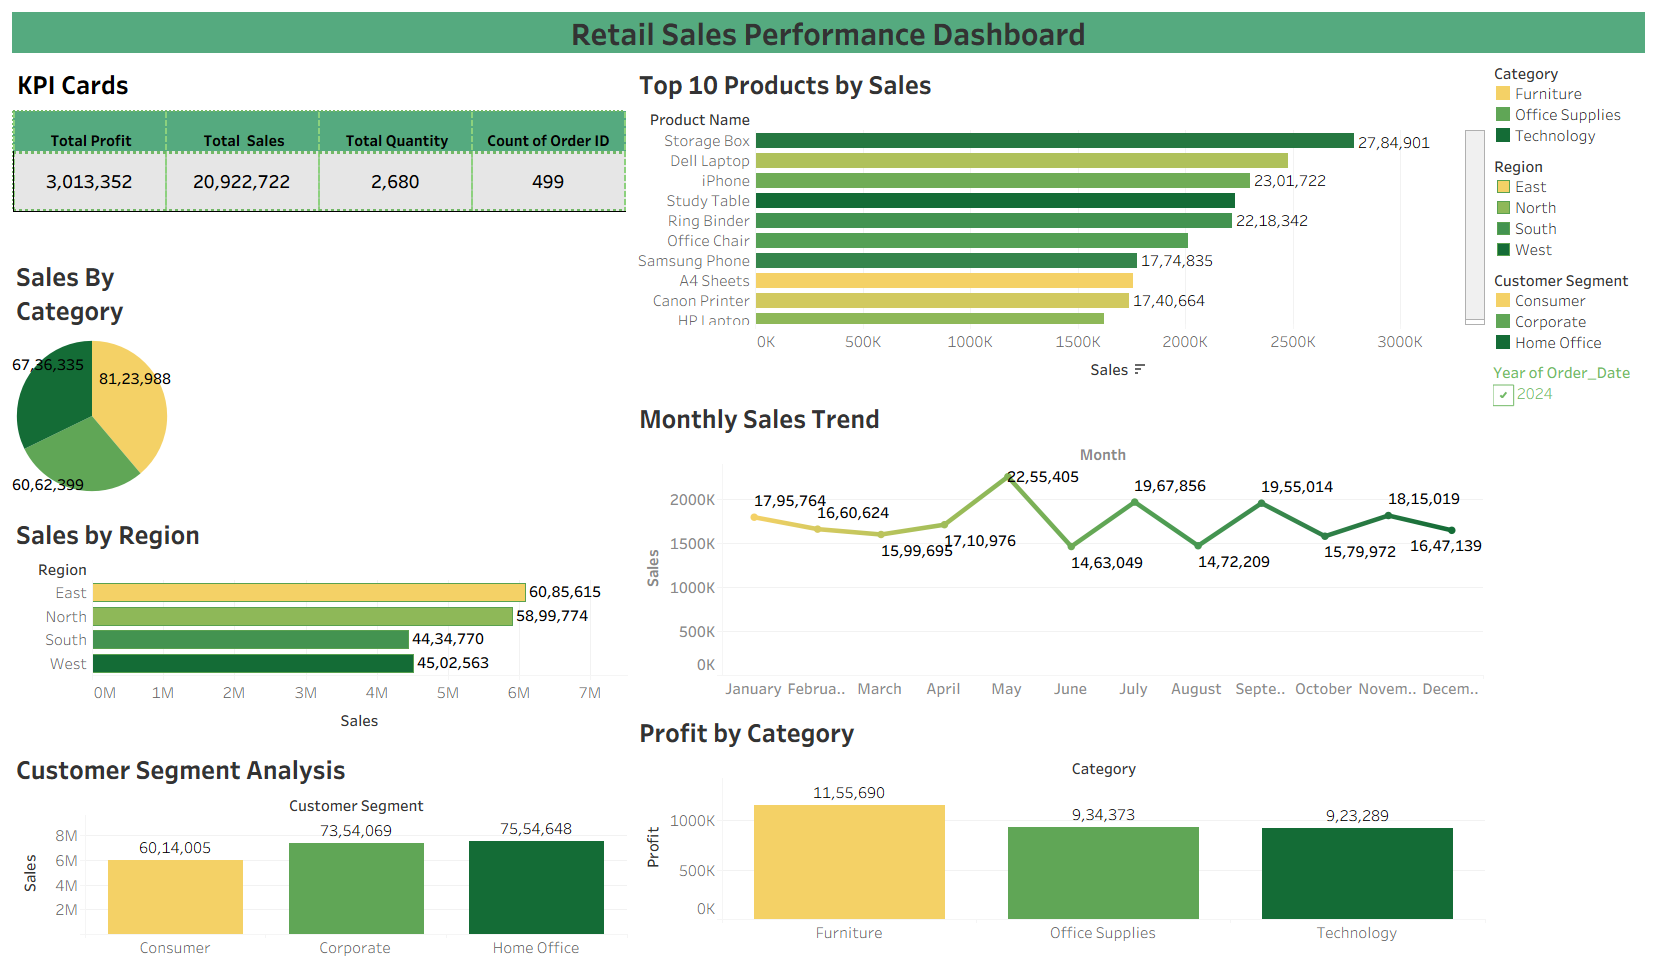

This screenshot's page, from the dashboard's own definition file:
{"tool":"tableau","page":{"name":"Retail Sales Performance Dashboard","canvas":[1000,1000],"units":"permille","ordinal":0},"visuals":[{"type":"title","box":[4.8,8.2,990.3,50.5]},{"type":"worksheet","title":"KPI Cards","mark":"Automatic","box":[4.8,58.7,376,197.7]},{"type":"worksheet","title":"Top 10 Products by Sales","mark":"Automatic","rows":["Product_Name"],"cols":["vtsum"],"box":[380.8,58.7,517.8,343.8]},{"type":"legend","title":"Profit by Category","param":"[federated.1wj47rj0s3u4un1fbs8by0bbzksn].[none:Category:nk]","box":[898.6,58.7,96.6,95.8]},{"type":"legend","title":"Sales by Region","param":"[federated.1wj47rj0s3u4un1fbs8by0bbzksn].[none:Region:nk]","box":[898.6,154.5,96.6,117.4]},{"type":"worksheet","title":"Sales by Category","mark":"Pie","box":[4.8,256.4,376,265.7]},{"type":"legend","title":"Customer Segment Analysis","param":"[federated.1wj47rj0s3u4un1fbs8by0bbzksn].[none:Customer_Segment:nk]","box":[898.6,271.9,96.6,95.8]},{"type":"filter","title":"Monthly Sales Trend","param":"[federated.1wj47rj0s3u4un1fbs8by0bbzksn].[yr:Order_Date:ok]","box":[898.6,367.7,96.6,84.5]},{"type":"worksheet","title":"Monthly Sales Trend","mark":"Line","rows":["vtsum"],"cols":["Calculation_1934658507542532"],"box":[380.8,402.5,517.8,323.4]},{"type":"worksheet","title":"Sales by Region","mark":"Bar","rows":["Region"],"cols":["vtsum"],"box":[4.8,522.1,376,242]},{"type":"worksheet","title":"Profit by Category","mark":"Automatic","rows":["Profit"],"cols":["Category"],"box":[380.8,725.9,517.8,265.9]},{"type":"worksheet","title":"Customer Segment Analysis","mark":"Automatic","rows":["vtsum"],"cols":["Customer_Segment"],"box":[4.8,764.2,376,227.6]}]}

Visuals, with their boxes on the dashboard's canvas, which has no fixed pixel size, in thousandths of its width and height (x1, y1, x2, y2). These are canvas units, not pixel positions in the 1657x971 screenshot, which may show the page scaled, cropped or inside an application window:
title: x1=5, y1=8, x2=995, y2=59
"KPI Cards" worksheet: x1=5, y1=59, x2=381, y2=256
"Top 10 Products by Sales" worksheet: x1=381, y1=59, x2=899, y2=402
"Profit by Category" legend: x1=899, y1=59, x2=995, y2=154
"Sales by Region" legend: x1=899, y1=154, x2=995, y2=272
"Sales by Category" worksheet (Pie marks): x1=5, y1=256, x2=381, y2=522
"Customer Segment Analysis" legend: x1=899, y1=272, x2=995, y2=368
"Monthly Sales Trend" filter: x1=899, y1=368, x2=995, y2=452
"Monthly Sales Trend" worksheet (Line marks): x1=381, y1=402, x2=899, y2=726
"Sales by Region" worksheet (Bar marks): x1=5, y1=522, x2=381, y2=764
"Profit by Category" worksheet: x1=381, y1=726, x2=899, y2=992
"Customer Segment Analysis" worksheet: x1=5, y1=764, x2=381, y2=992
